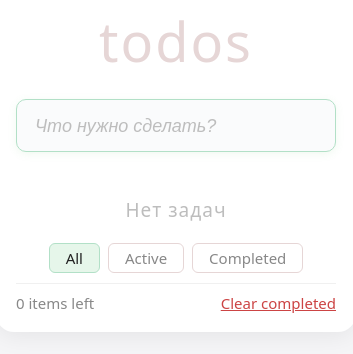
Scenario: Очистка завершённых задач работает
Type "Очистить" into the field with placeholder "Что нужно сделать?".
click(176, 126); type("Очистить")  # box left=16, top=99, right=336, bottom=152
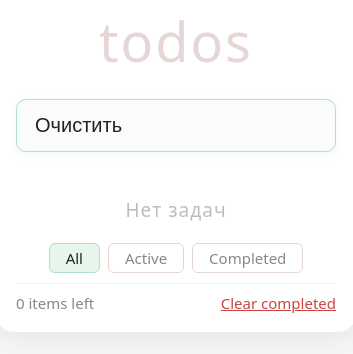
Press Enter in the field with placeholder "Что нужно сделать?", box left=16, top=99, right=336, bottom=152
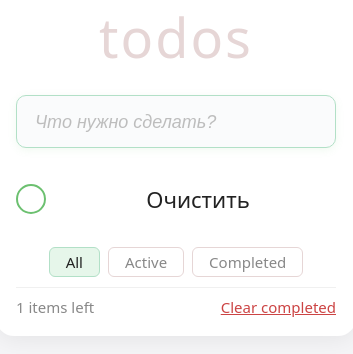
Click the checkbox "Очистить".
click(198, 199)  # box left=16, top=184, right=250, bottom=214
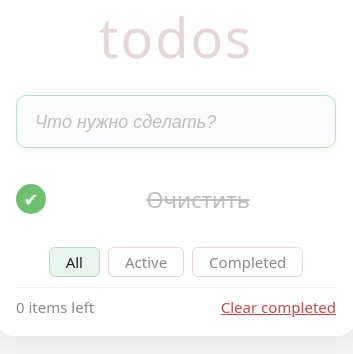
Click the button "Clear completed".
click(278, 307)  # box left=221, top=297, right=336, bottom=317
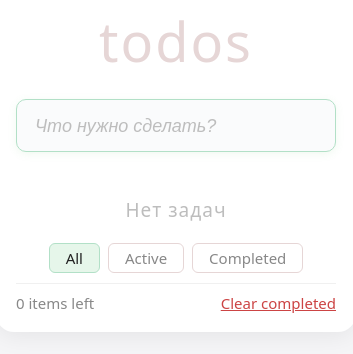
expect the checkbox "Очистить" is gone: met
